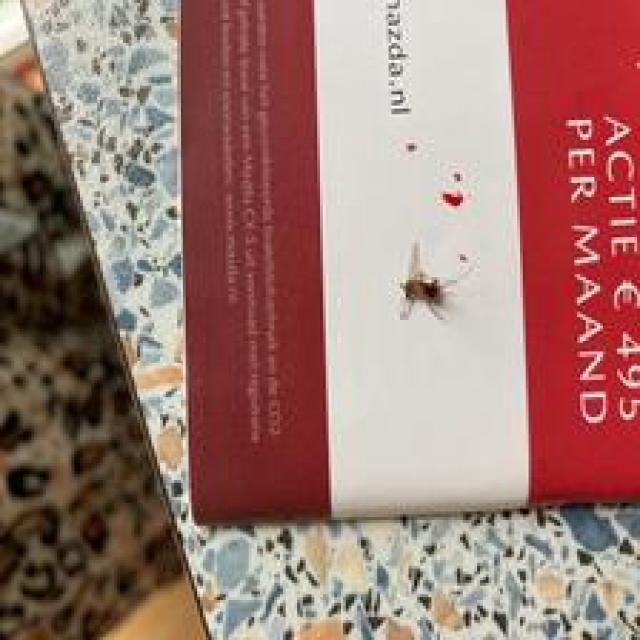Culex: (397, 240, 460, 323)
